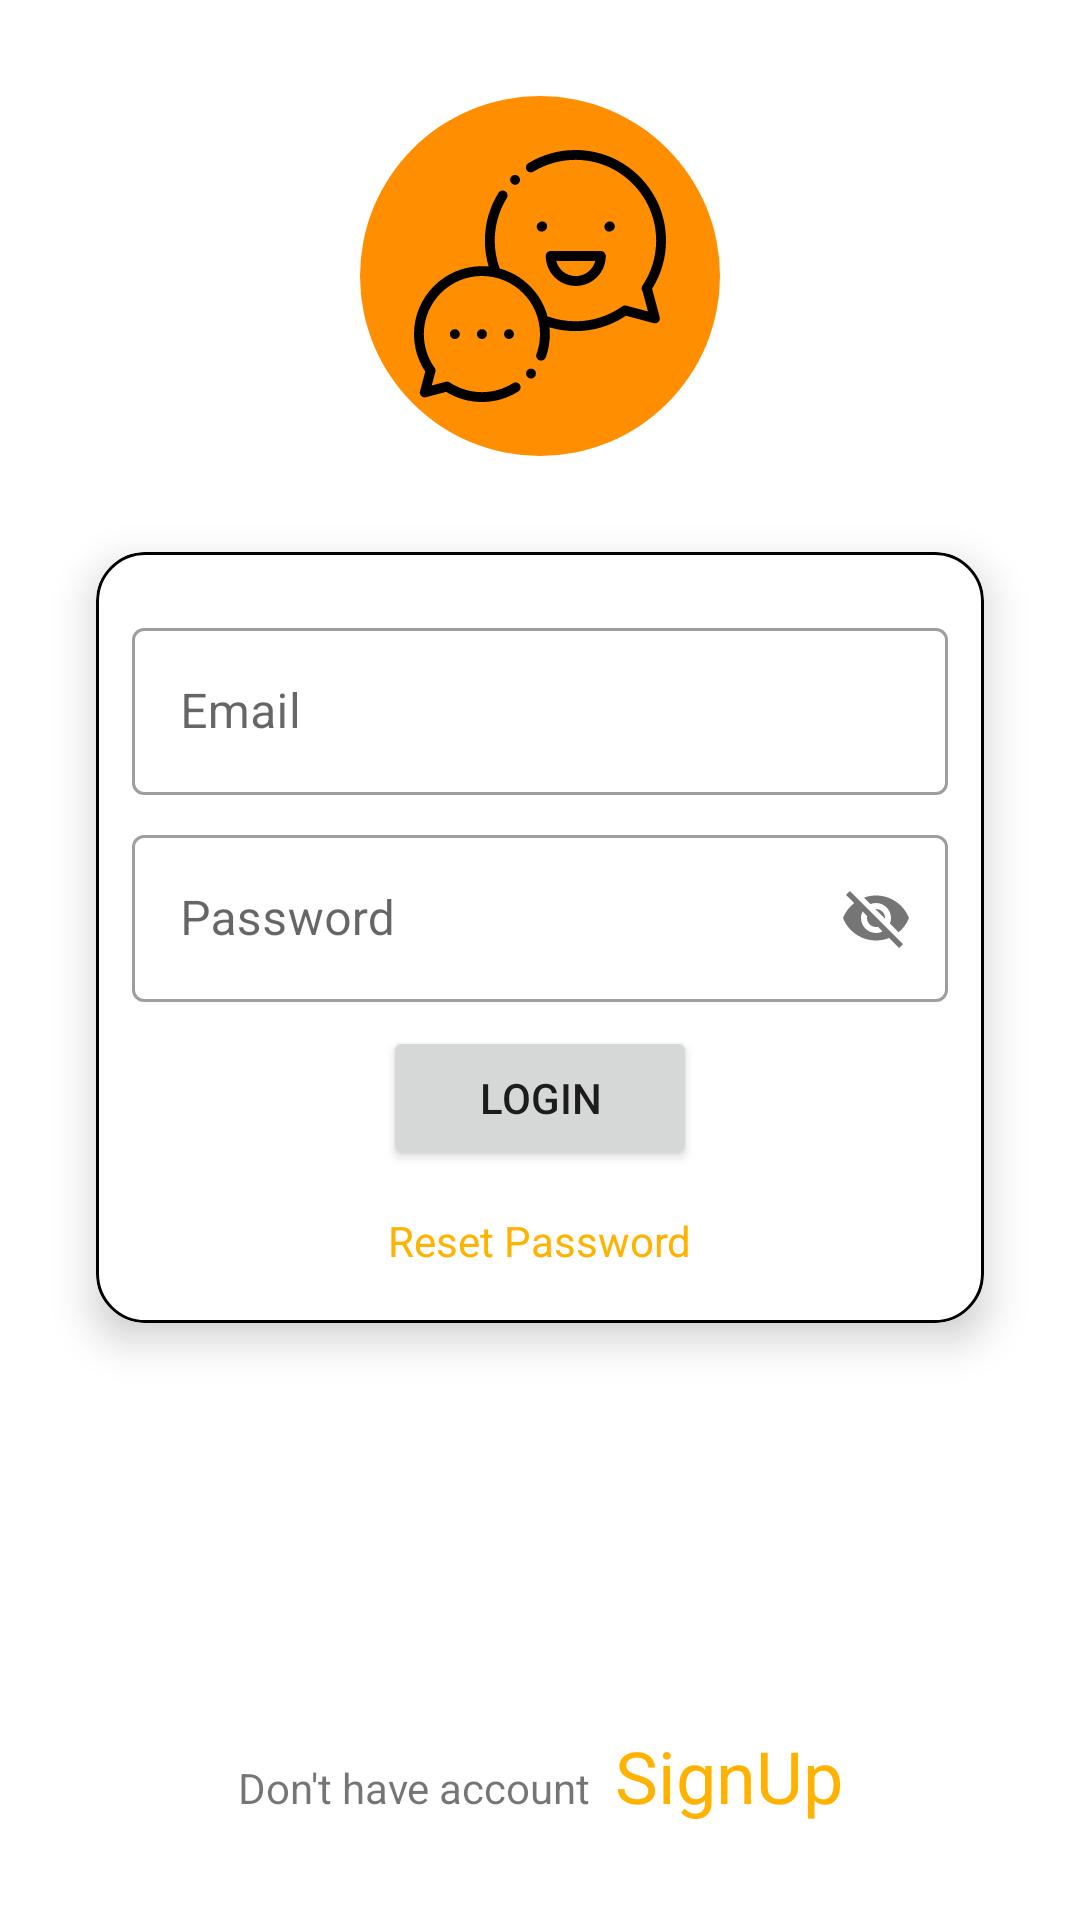

Icon bounding boxes for this 1080px x 1920px phone screenshot, format (x1, y1, x2, y2):
chat: (360, 96, 720, 456)
